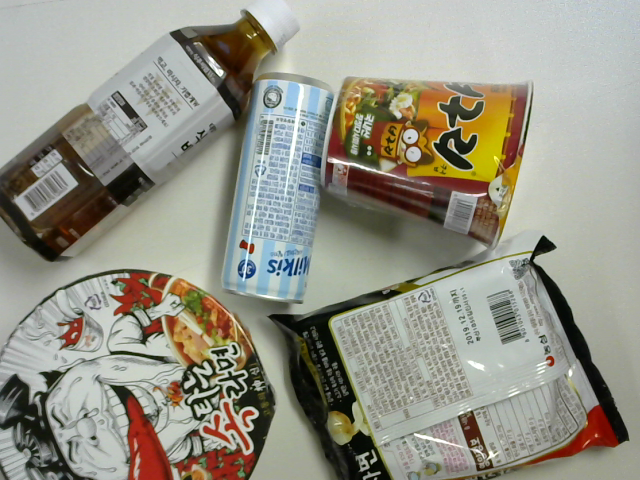HeJangsock: (7, 274, 275, 476)
Milkies_250ml: (225, 72, 327, 306)
Post-meal_recipe_W_tea_500ml: (5, 6, 305, 256)
Potato: (275, 242, 626, 480)
Raccoon: (321, 84, 541, 248)
